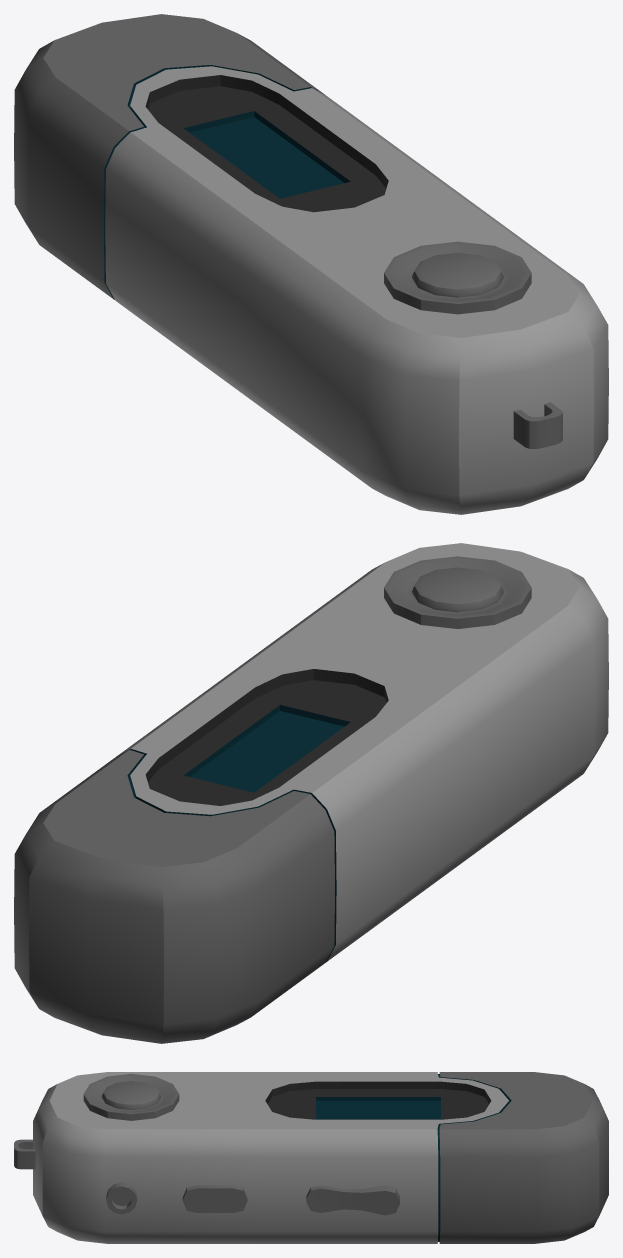
The picture shows the model from 3 angles, top to bottom: view 1: azimuth 30°, elevation 25°; view 2: azimuth 150°, elevation 25°; view 3: azimuth 270°, elevation 25°; orthographic projection. The views are drawn at different scales.
Visible parts, largest first — view 1: Mesh_MP3_03; view 2: Mesh_MP3_03; view 3: Mesh_MP3_03.
Boxes of the visible parts, box(x1,y1,x2,y2) form: Mesh_MP3_03: box(14, 14, 608, 514); Mesh_MP3_03: box(14, 543, 608, 1043); Mesh_MP3_03: box(14, 1072, 608, 1243).
Size of the model in its own units: 0.0302 by 0.0222 by 0.0967.
Materials: 1 (1 with a texture image).
